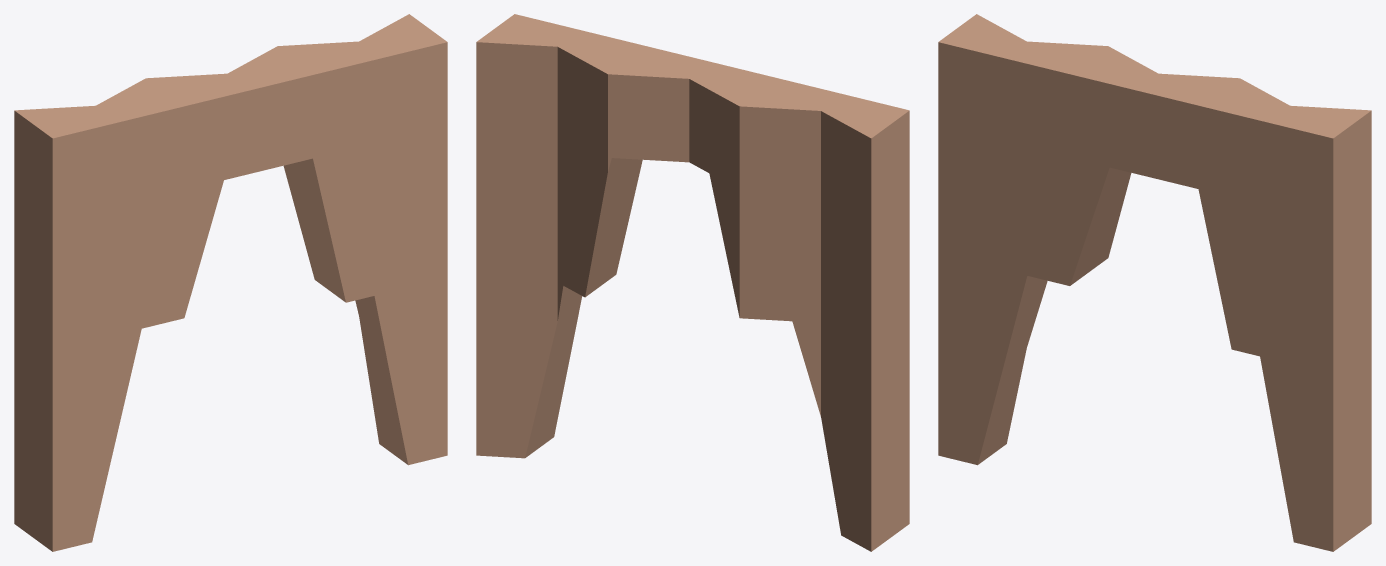
Rendered from cliff_cave_rock.glb.
The picture shows the model from 3 angles, left to right: view 1: azimuth 30°, elevation 25°; view 2: azimuth 150°, elevation 25°; view 3: azimuth 330°, elevation 25°; orthographic projection.
Parts seen in each view (by area): view 1: cliff_cave_rock; view 2: cliff_cave_rock; view 3: cliff_cave_rock.
Boxes of the visible parts, bbox=[...] form: cliff_cave_rock: bbox=[14, 14, 447, 551]; cliff_cave_rock: bbox=[476, 14, 909, 551]; cliff_cave_rock: bbox=[938, 14, 1371, 551].
Size of the model in its own units: 1 by 1 by 0.1685.
